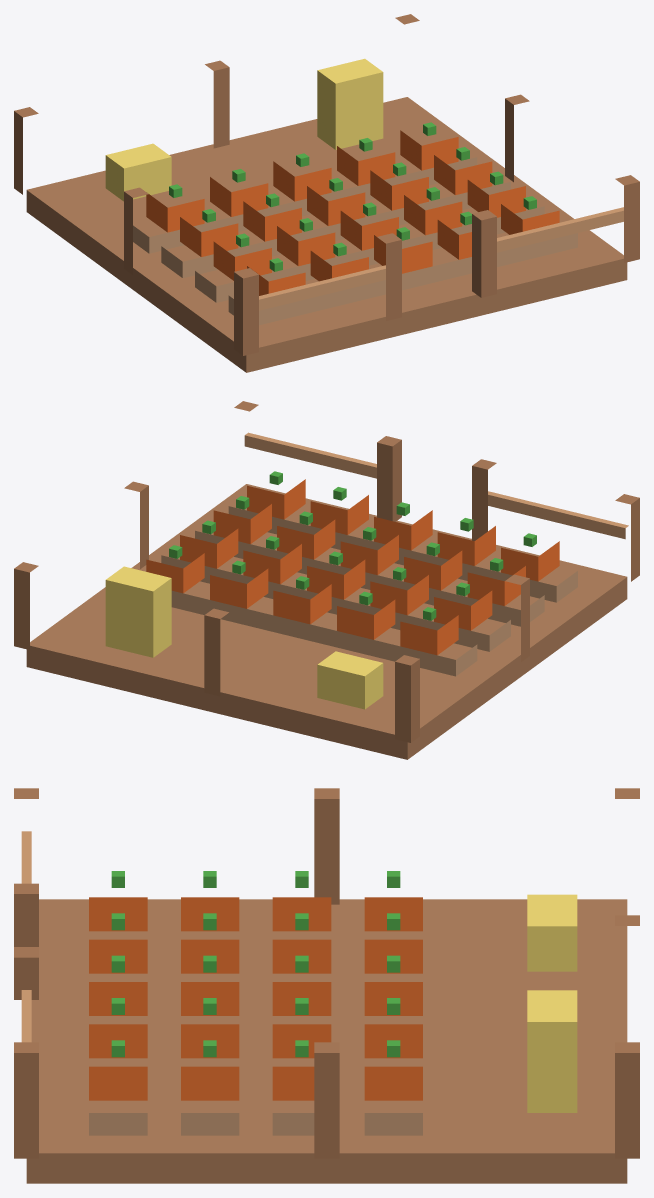
Rendered from field_t2_v3.glb.
3 renders of one model, top to bottom at view 1: azimuth 30°, elevation 25°; view 2: azimuth 150°, elevation 25°; view 3: azimuth 270°, elevation 25°, orthographic. The views are drawn at different scales.
Visible parts, largest first — view 1: field_t2_v3; view 2: field_t2_v3; view 3: field_t2_v3.
Part boxes in pixels (x1,y1,x2,y2): field_t2_v3: (14,14,639,372); field_t2_v3: (14,401,639,759); field_t2_v3: (14,788,639,1183).
Size of the model in its own units: 0.75 by 0.18 by 0.75.
Materials: 1 (1 with a texture image).
